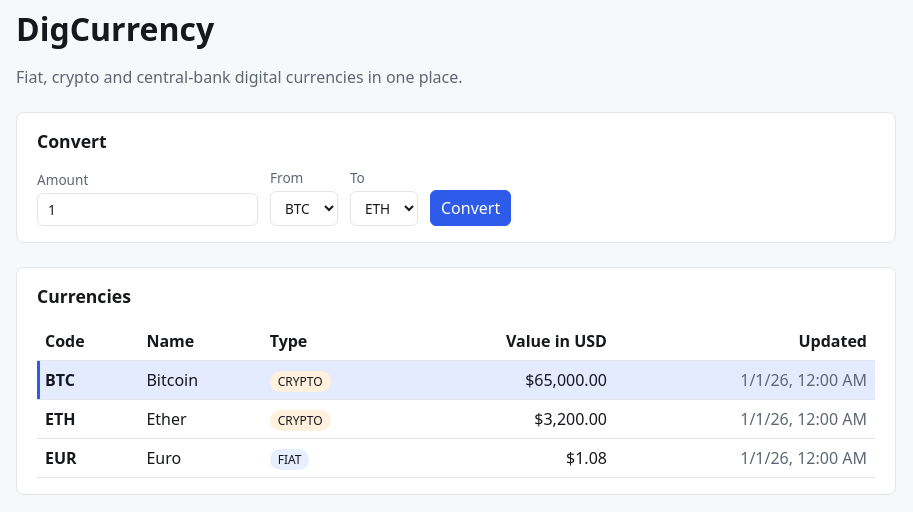
Test: App › sets the converter "From" currency when a table row is clicked
Check: the dropdown labelled "From" shows "BTC", box top-left (270, 191), bottom-right (338, 226)
Click the text "Ether".
click(200, 419)  # box top-left (138, 400), bottom-right (262, 439)
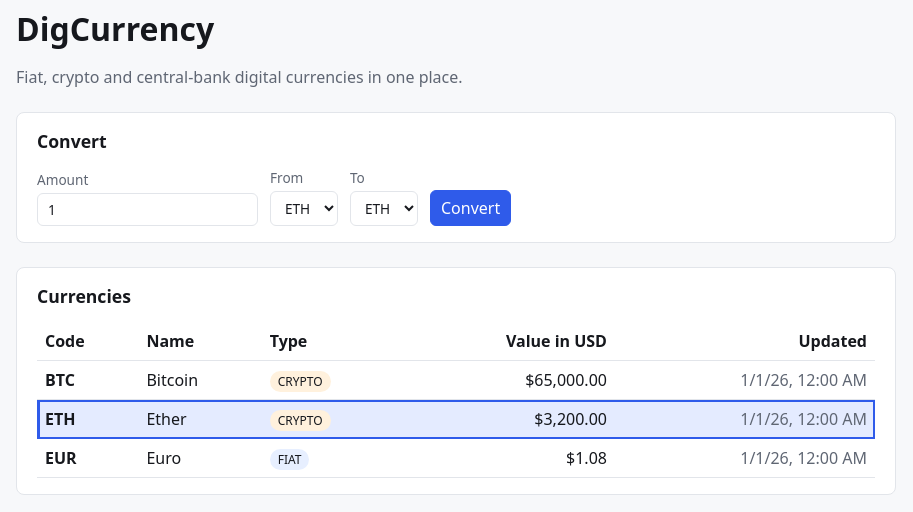
Check: the dropdown labelled "From" shows "ETH", box top-left (270, 191), bottom-right (338, 226)
